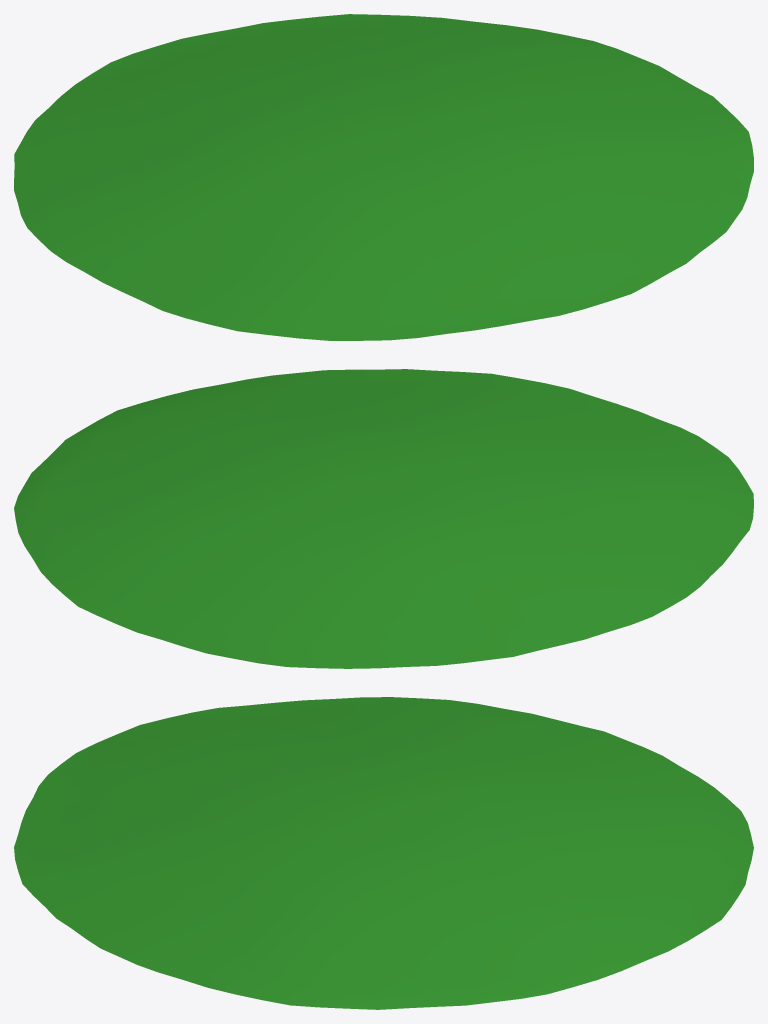
The model's file is IL3DN_GroundPatch.FBX.
3 renders of one model, top to bottom at view 1: azimuth 30°, elevation 25°; view 2: azimuth 150°, elevation 25°; view 3: azimuth 270°, elevation 25°, orthographic. The views are drawn at different scales.
Parts seen in each view (by area): view 1: IL3DN_GroundPatch; view 2: IL3DN_GroundPatch; view 3: IL3DN_GroundPatch.
Part boxes in pixels (left/top/right/bottom): IL3DN_GroundPatch: left=14, top=14, right=753, bottom=340; IL3DN_GroundPatch: left=14, top=369, right=753, bottom=668; IL3DN_GroundPatch: left=14, top=697, right=753, bottom=1009.
Size of the model in its own units: 393 by 19.07 by 393.
